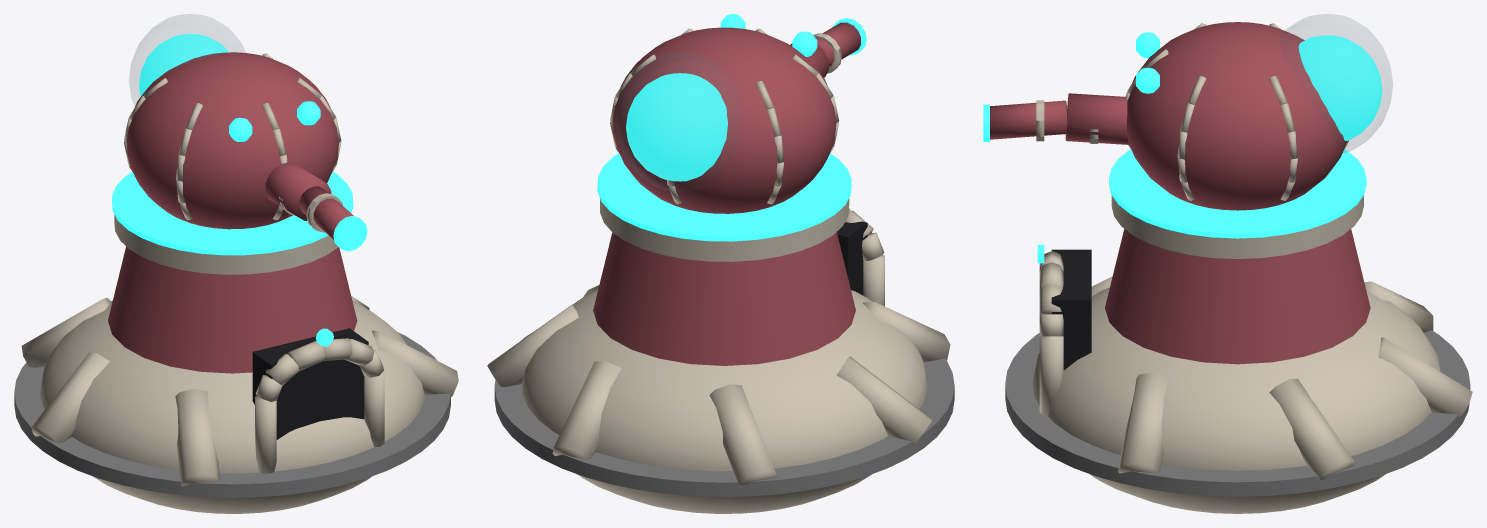
File: GooGun_T1_Spitter.glb
The picture shows the model from 3 angles, left to right: view 1: azimuth 30°, elevation 25°; view 2: azimuth 150°, elevation 25°; view 3: azimuth 270°, elevation 25°; orthographic projection. The views are drawn at different scales.
Visible parts, largest first — view 1: GooGun_T1_Spitter_Base, GooGun_T1_Spitter_Turret; view 2: GooGun_T1_Spitter_Base, GooGun_T1_Spitter_Turret; view 3: GooGun_T1_Spitter_Base, GooGun_T1_Spitter_Turret.
Boxes of the visible parts, x1,y1,x2,y2 form: GooGun_T1_Spitter_Base: (14,172,458,513); GooGun_T1_Spitter_Turret: (124,14,367,251); GooGun_T1_Spitter_Base: (487,153,954,513); GooGun_T1_Spitter_Turret: (610,14,866,213); GooGun_T1_Spitter_Base: (1005,149,1472,513); GooGun_T1_Spitter_Turret: (983,14,1392,210).
Size of the model in its own units: 3.56 by 3.82 by 3.68.
